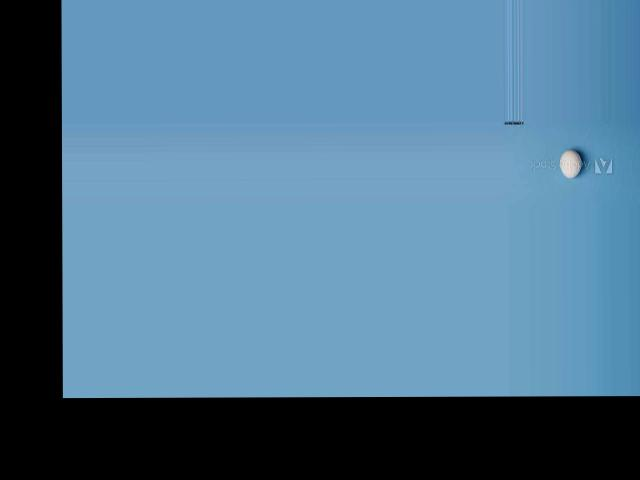egg: (559, 149, 581, 177)
